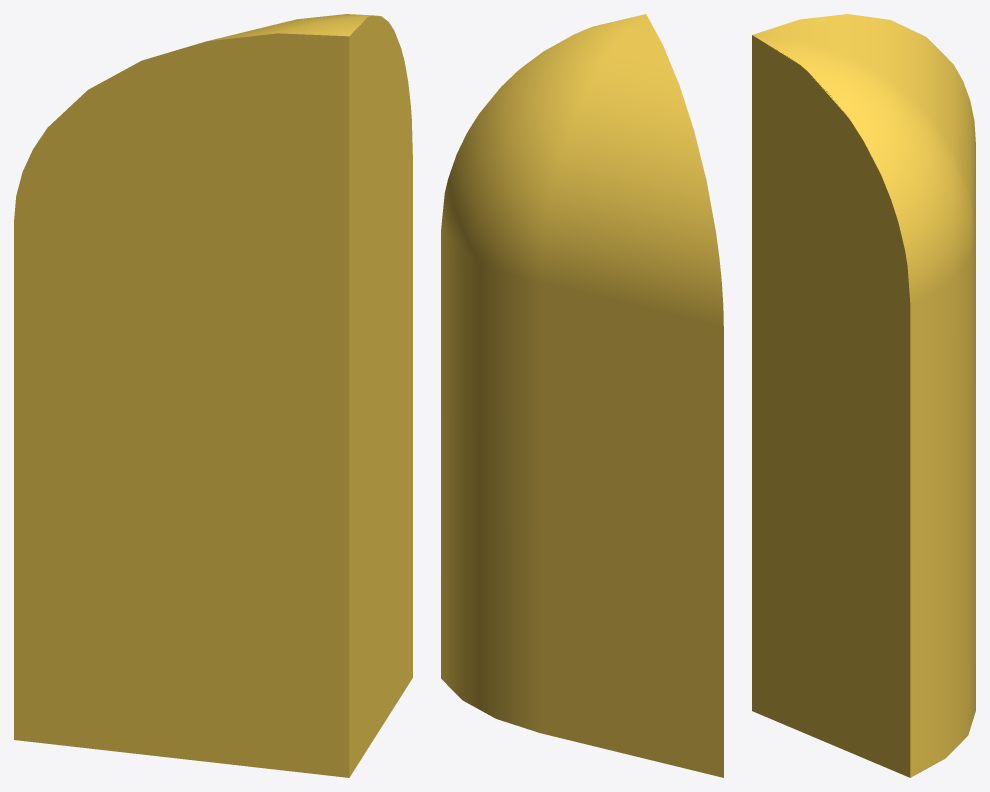
File: Corner_Round.obj
3 renders of one model, left to right at view 1: azimuth 30°, elevation 25°; view 2: azimuth 150°, elevation 25°; view 3: azimuth 270°, elevation 25°, orthographic. The views are drawn at different scales.
Parts seen in each view (by area): view 1: Corner_Round; view 2: Corner_Round; view 3: Corner_Round.
Boxes of the visible parts, x1,y1,x2,y2 form: Corner_Round: (14,14,412,777); Corner_Round: (441,14,723,777); Corner_Round: (752,14,975,777).
Bounding box in the file's own units: 0.2561 × 0.5 × 0.15.
